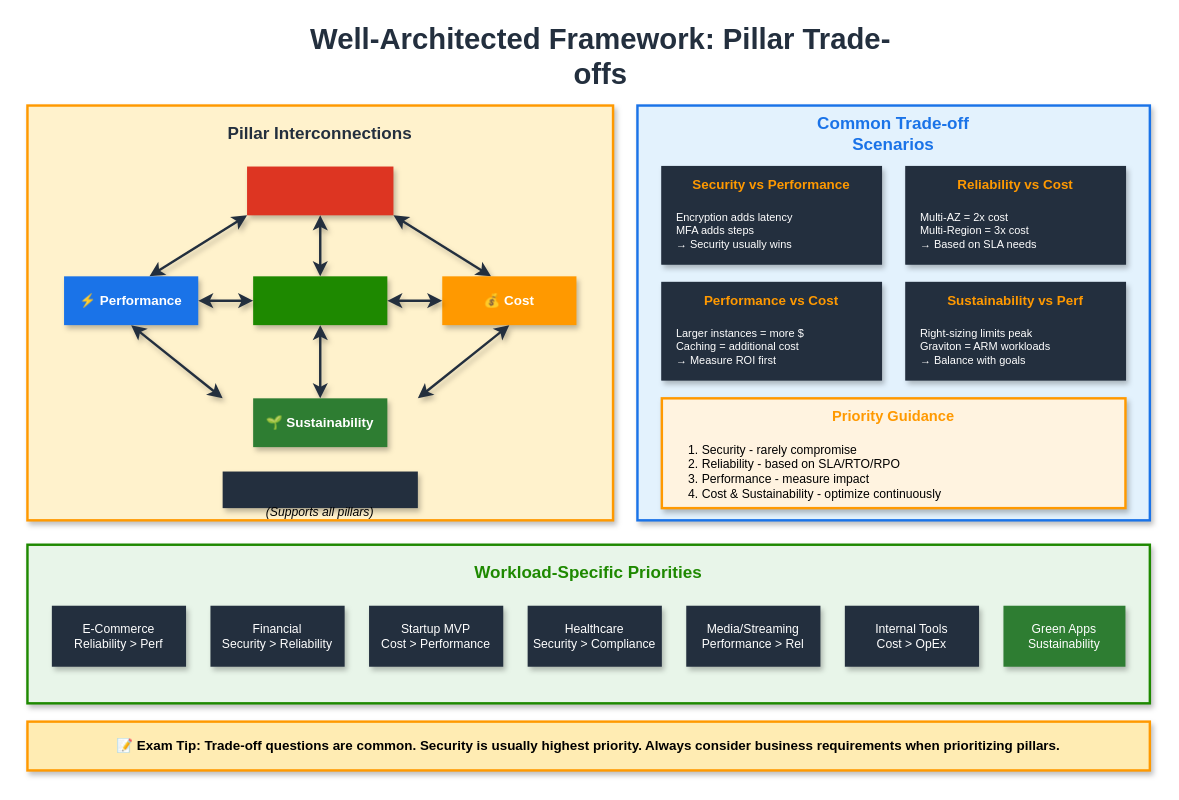
Image size: 1179x800. Some labels were removed from this diagram. Here are the shapes that lost their labels. From the top down, the centre of each, then its label:
At pixel 321 192: "🔒 Security".
At pixel 321 302: "🛡️ Reliability".
At pixel 321 491: "⚙️ Operational Excellence".
